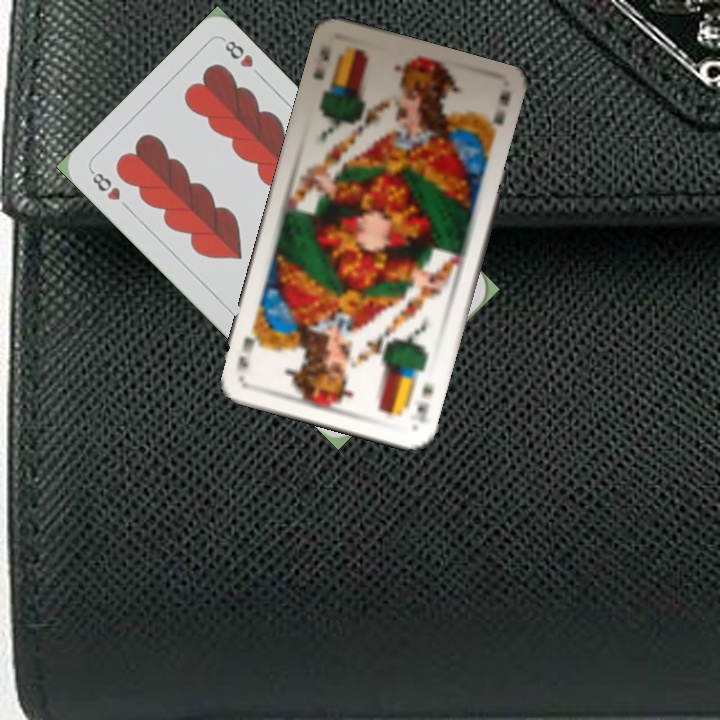EK: (412, 378, 437, 423), (309, 40, 333, 83)
H8: (86, 166, 123, 203)
